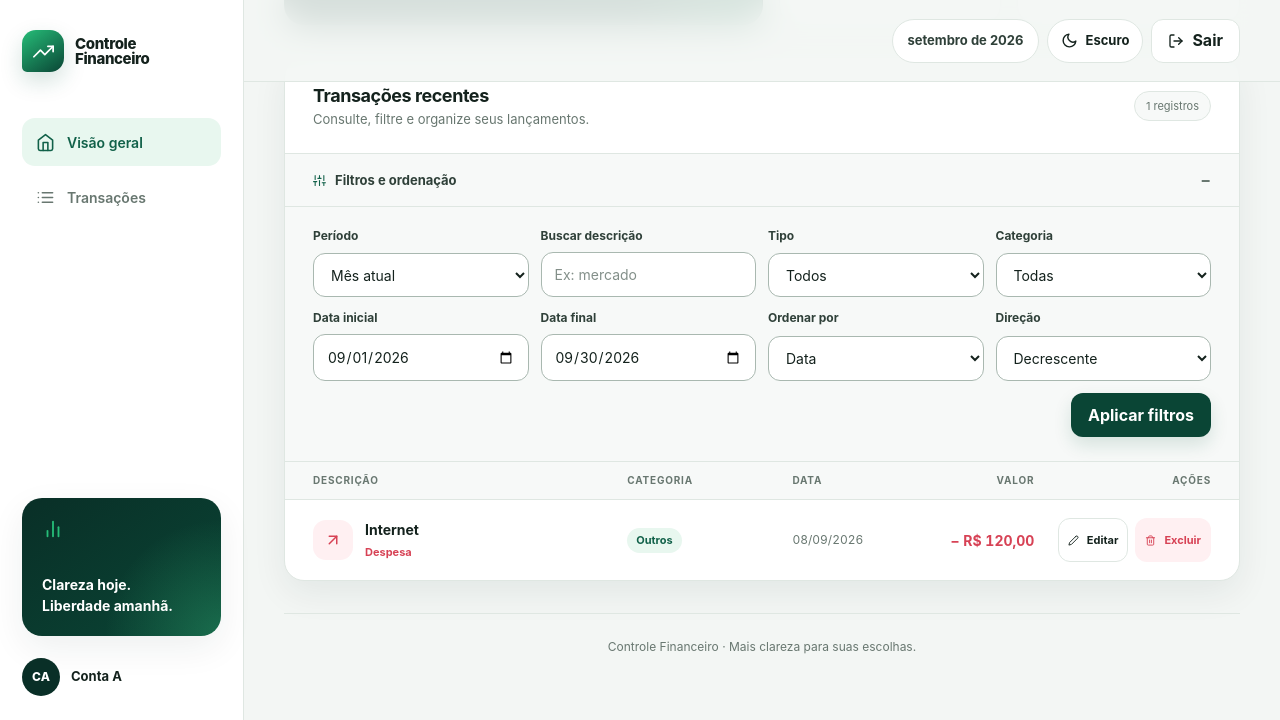
Test: edita e exclui uma transação
(page scrolled)
expect the button "Sair" is shown: met, box [1151,18,1240,62]
Click the button with aria-label "Editar Internet": [1093, 540] box [1058,518,1128,562]
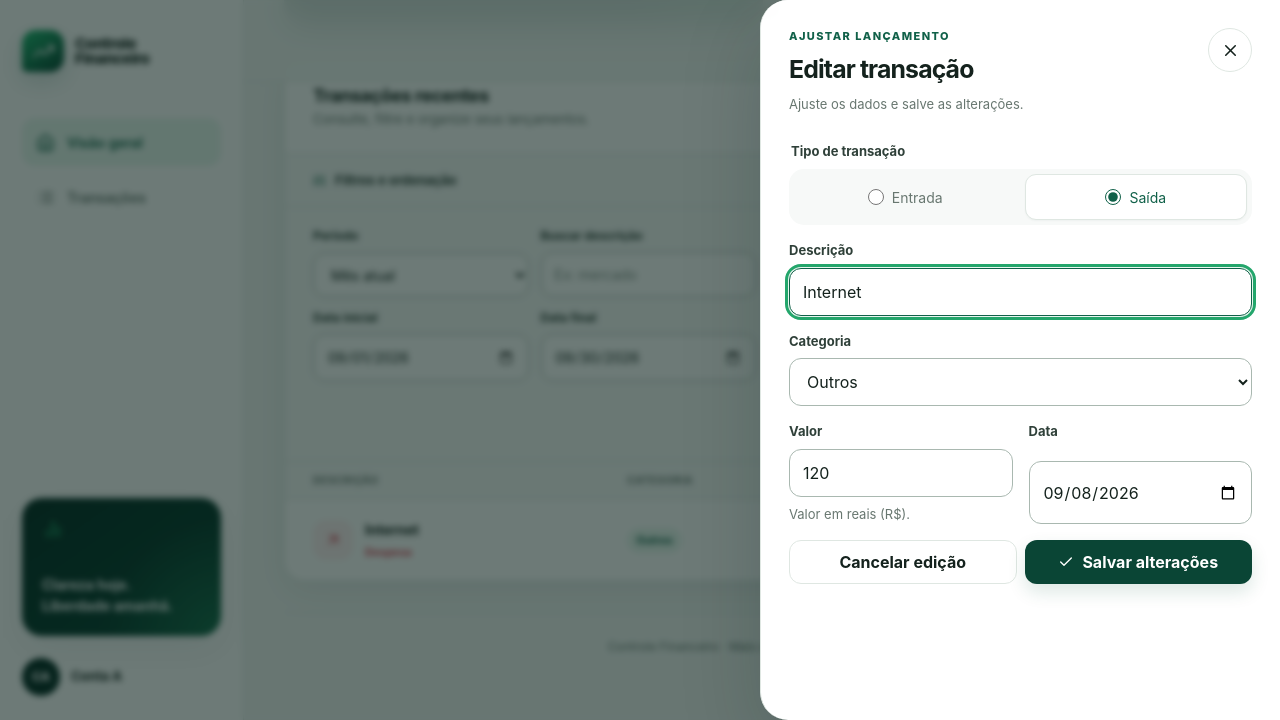
Replace the text in the field with placeholder "Ex: salário, luz..." with "Internet atualizada": [1020, 292] box [789,268,1252,316]
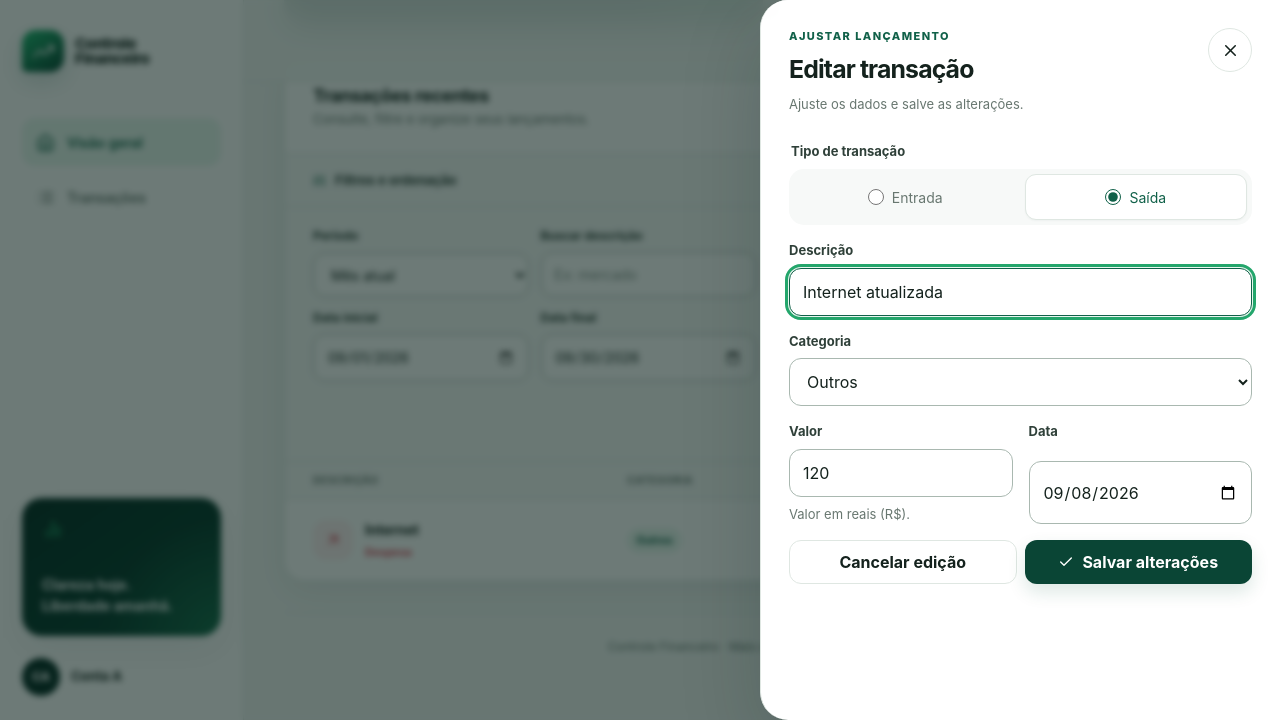
Replace the text in the number field labelled "Valor" with "130": [901, 473] box [789,449,1012,497]
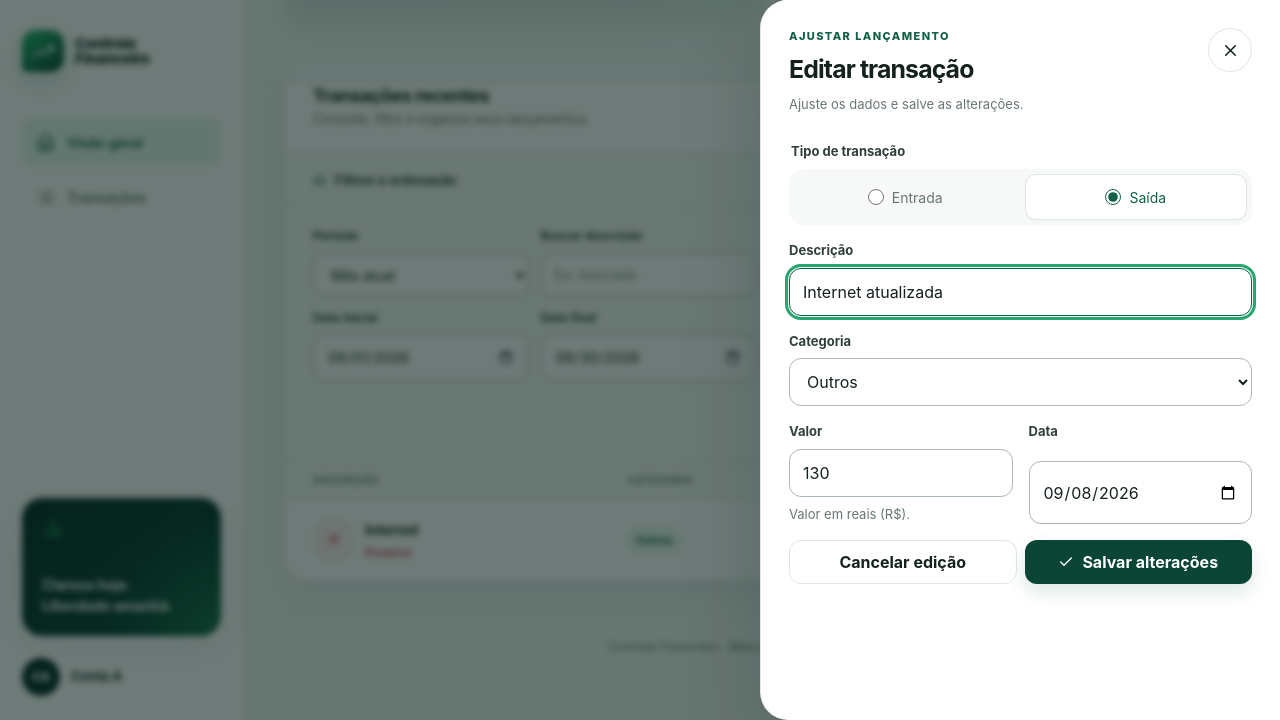
Click the button with aria-label "ATUALIZAR": [1138, 562] box [1024,540,1252,584]
(page scrolled)
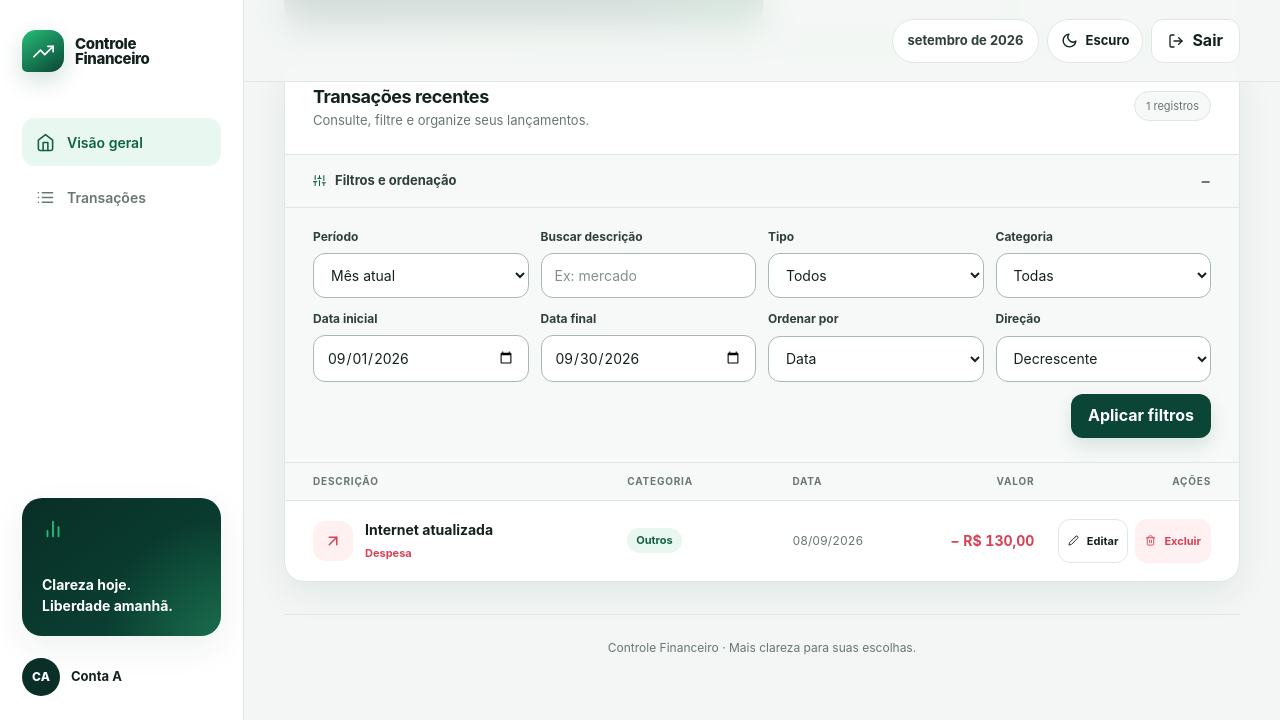
expect the heading "Internet atualizada" is shown: met, box [365,521,493,538]
Click the button with aria-label "Excluir Internet atualizada": [1173, 541] box [1135,519,1211,563]
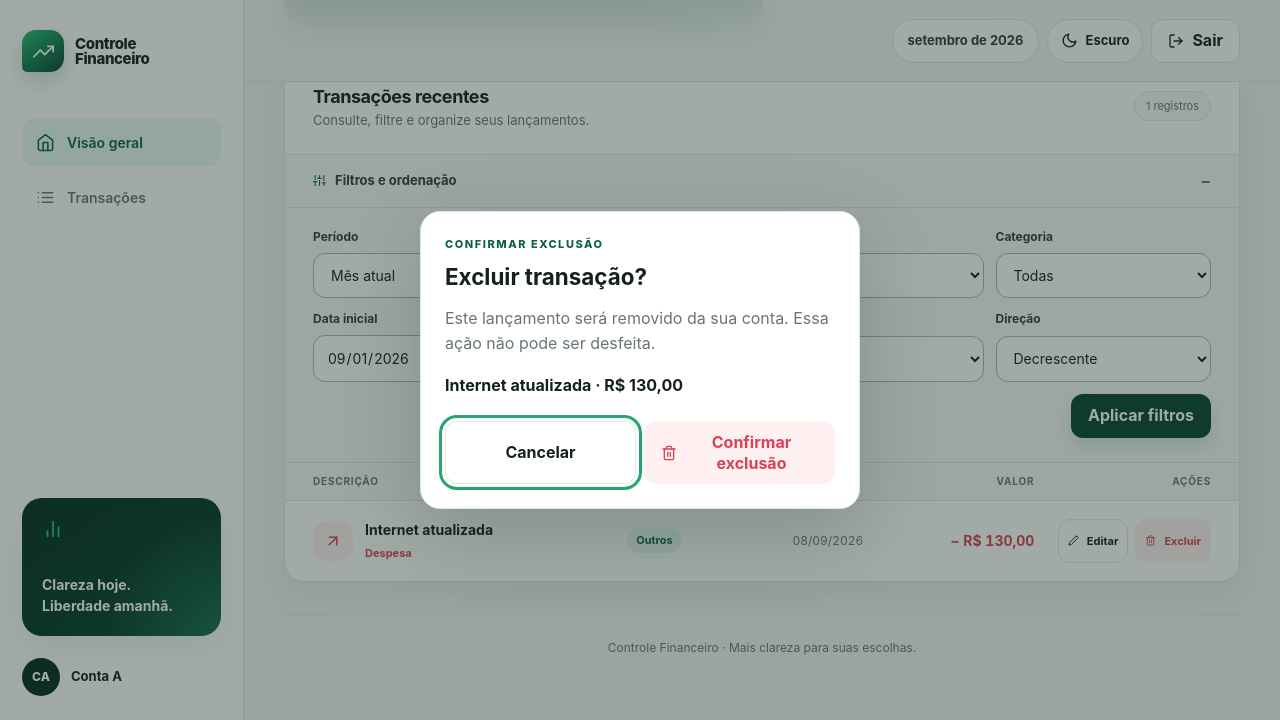
Click the button "Confirmar exclusão": [740, 453] box [644,421,835,484]
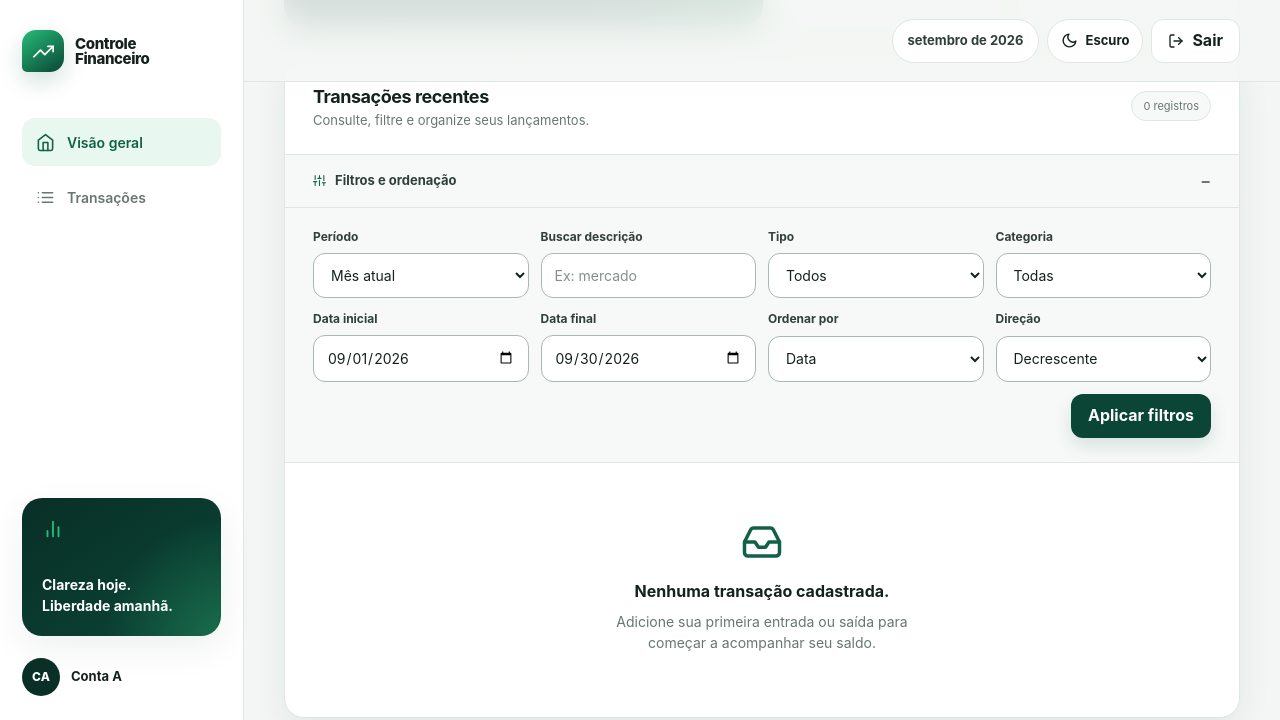
expect the heading "Internet atualizada" is gone: met
